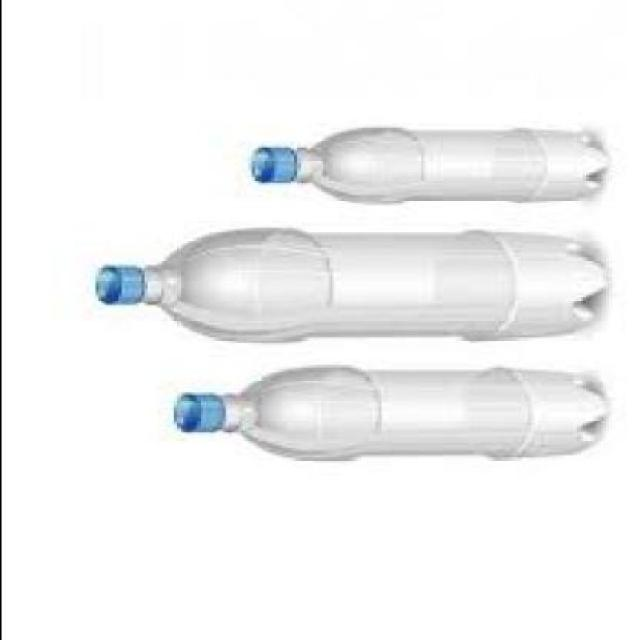PLASTIC: (91, 227, 598, 338), (173, 364, 601, 456), (247, 125, 601, 200), (165, 390, 224, 430), (91, 262, 143, 302), (247, 145, 293, 180)
